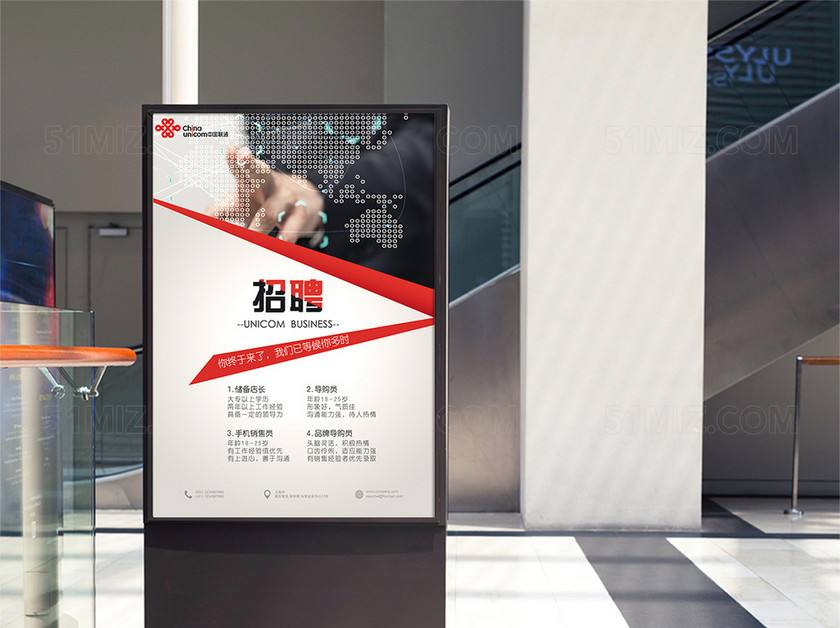bill: (149, 113, 436, 522)
